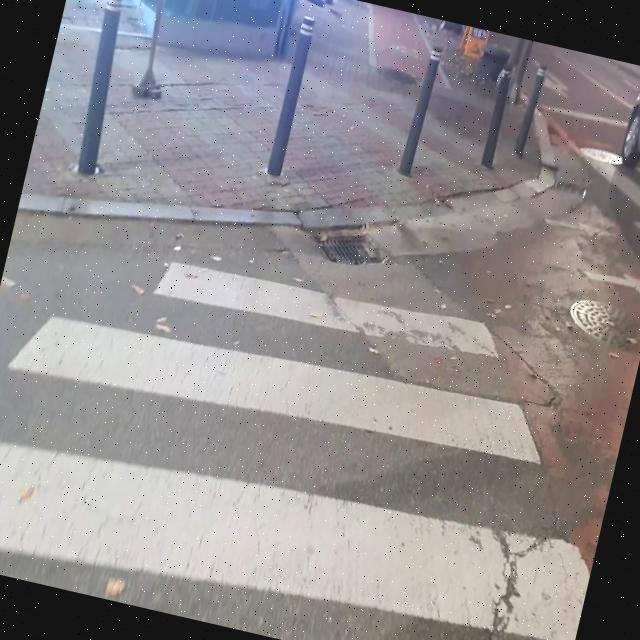crosswalk: (0, 255, 589, 640)
